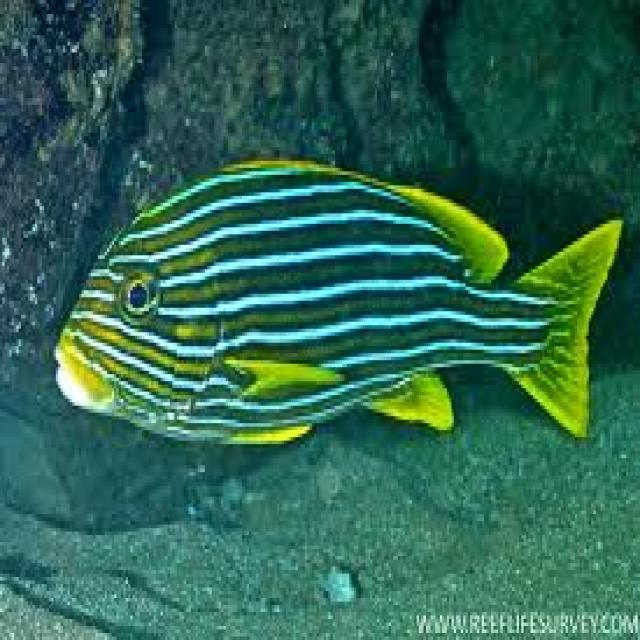RibbonedSweetlips: (52, 156, 624, 448)
